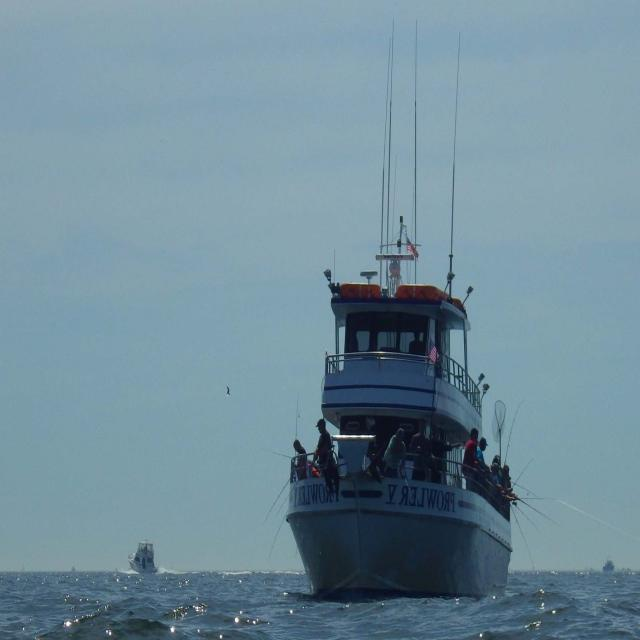fishing boat: (275, 237, 525, 598)
